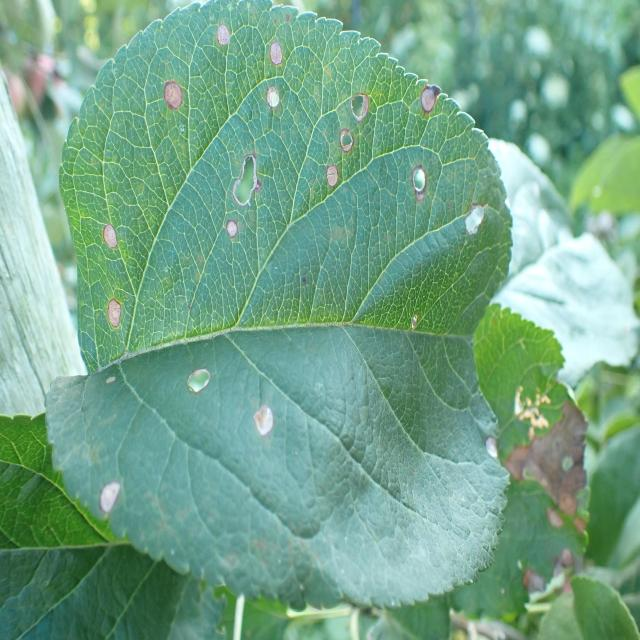Black Rot: (330, 51, 375, 158), (139, 54, 203, 125), (223, 146, 267, 245), (455, 182, 506, 243), (97, 429, 123, 548), (404, 140, 437, 230), (407, 62, 443, 142), (171, 344, 221, 396), (95, 283, 140, 340), (235, 408, 291, 448), (258, 68, 292, 130), (206, 10, 246, 60), (474, 426, 504, 488), (98, 205, 126, 261), (260, 27, 290, 79), (307, 161, 363, 188)
